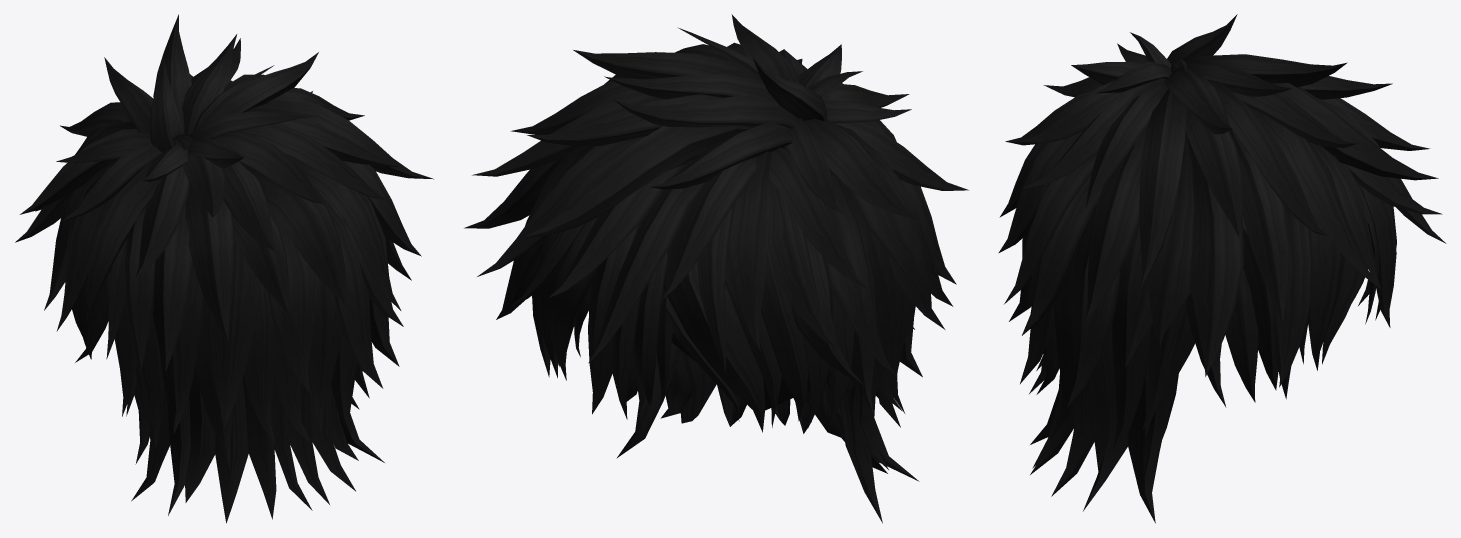
Rendered from 28-Ichigo-Black-103136287139771.glb.
The picture shows the model from 3 angles, left to right: view 1: azimuth 30°, elevation 25°; view 2: azimuth 150°, elevation 25°; view 3: azimuth 270°, elevation 25°; orthographic projection. The views are drawn at different scales.
Parts seen in each view (by area): view 1: 28-Ichigo-Black-103136287139771; view 2: 28-Ichigo-Black-103136287139771; view 3: 28-Ichigo-Black-103136287139771.
Part boxes in pixels (<box>): 28-Ichigo-Black-103136287139771: <box>15,14,433,523</box>; 28-Ichigo-Black-103136287139771: <box>464,14,968,523</box>; 28-Ichigo-Black-103136287139771: <box>998,14,1446,523</box>.
Bounding box in the file's own units: 1.93 × 2.12 × 2.01.
1 material, 1 textured.
